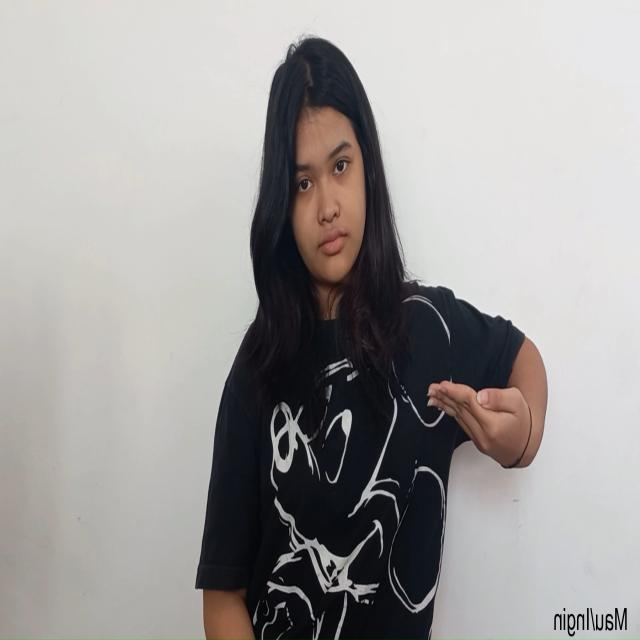Mau-Ingin -BISINDO-: (425, 379, 537, 474)
